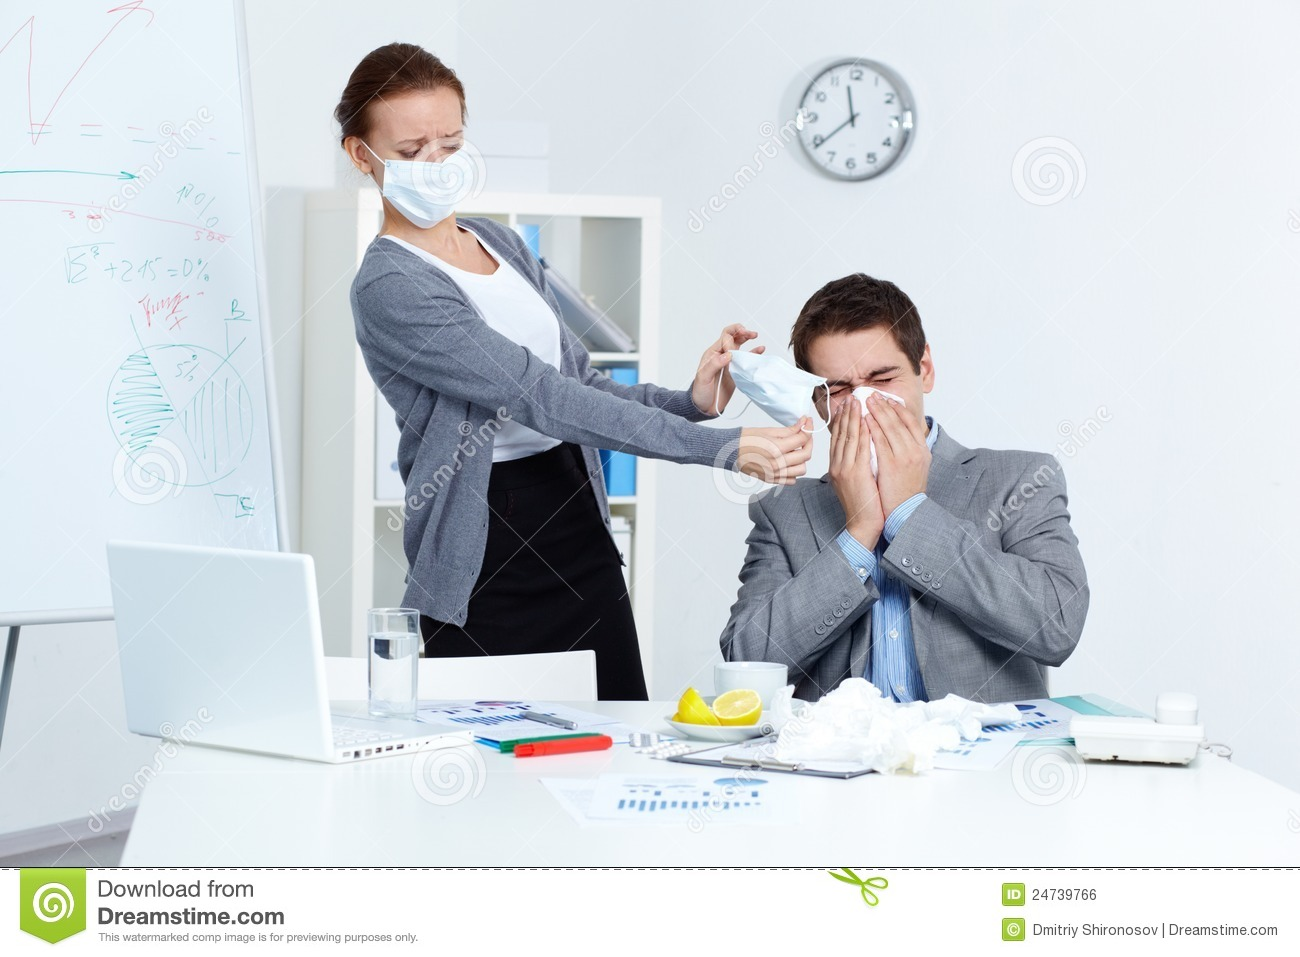mask: (382, 156, 472, 230)
